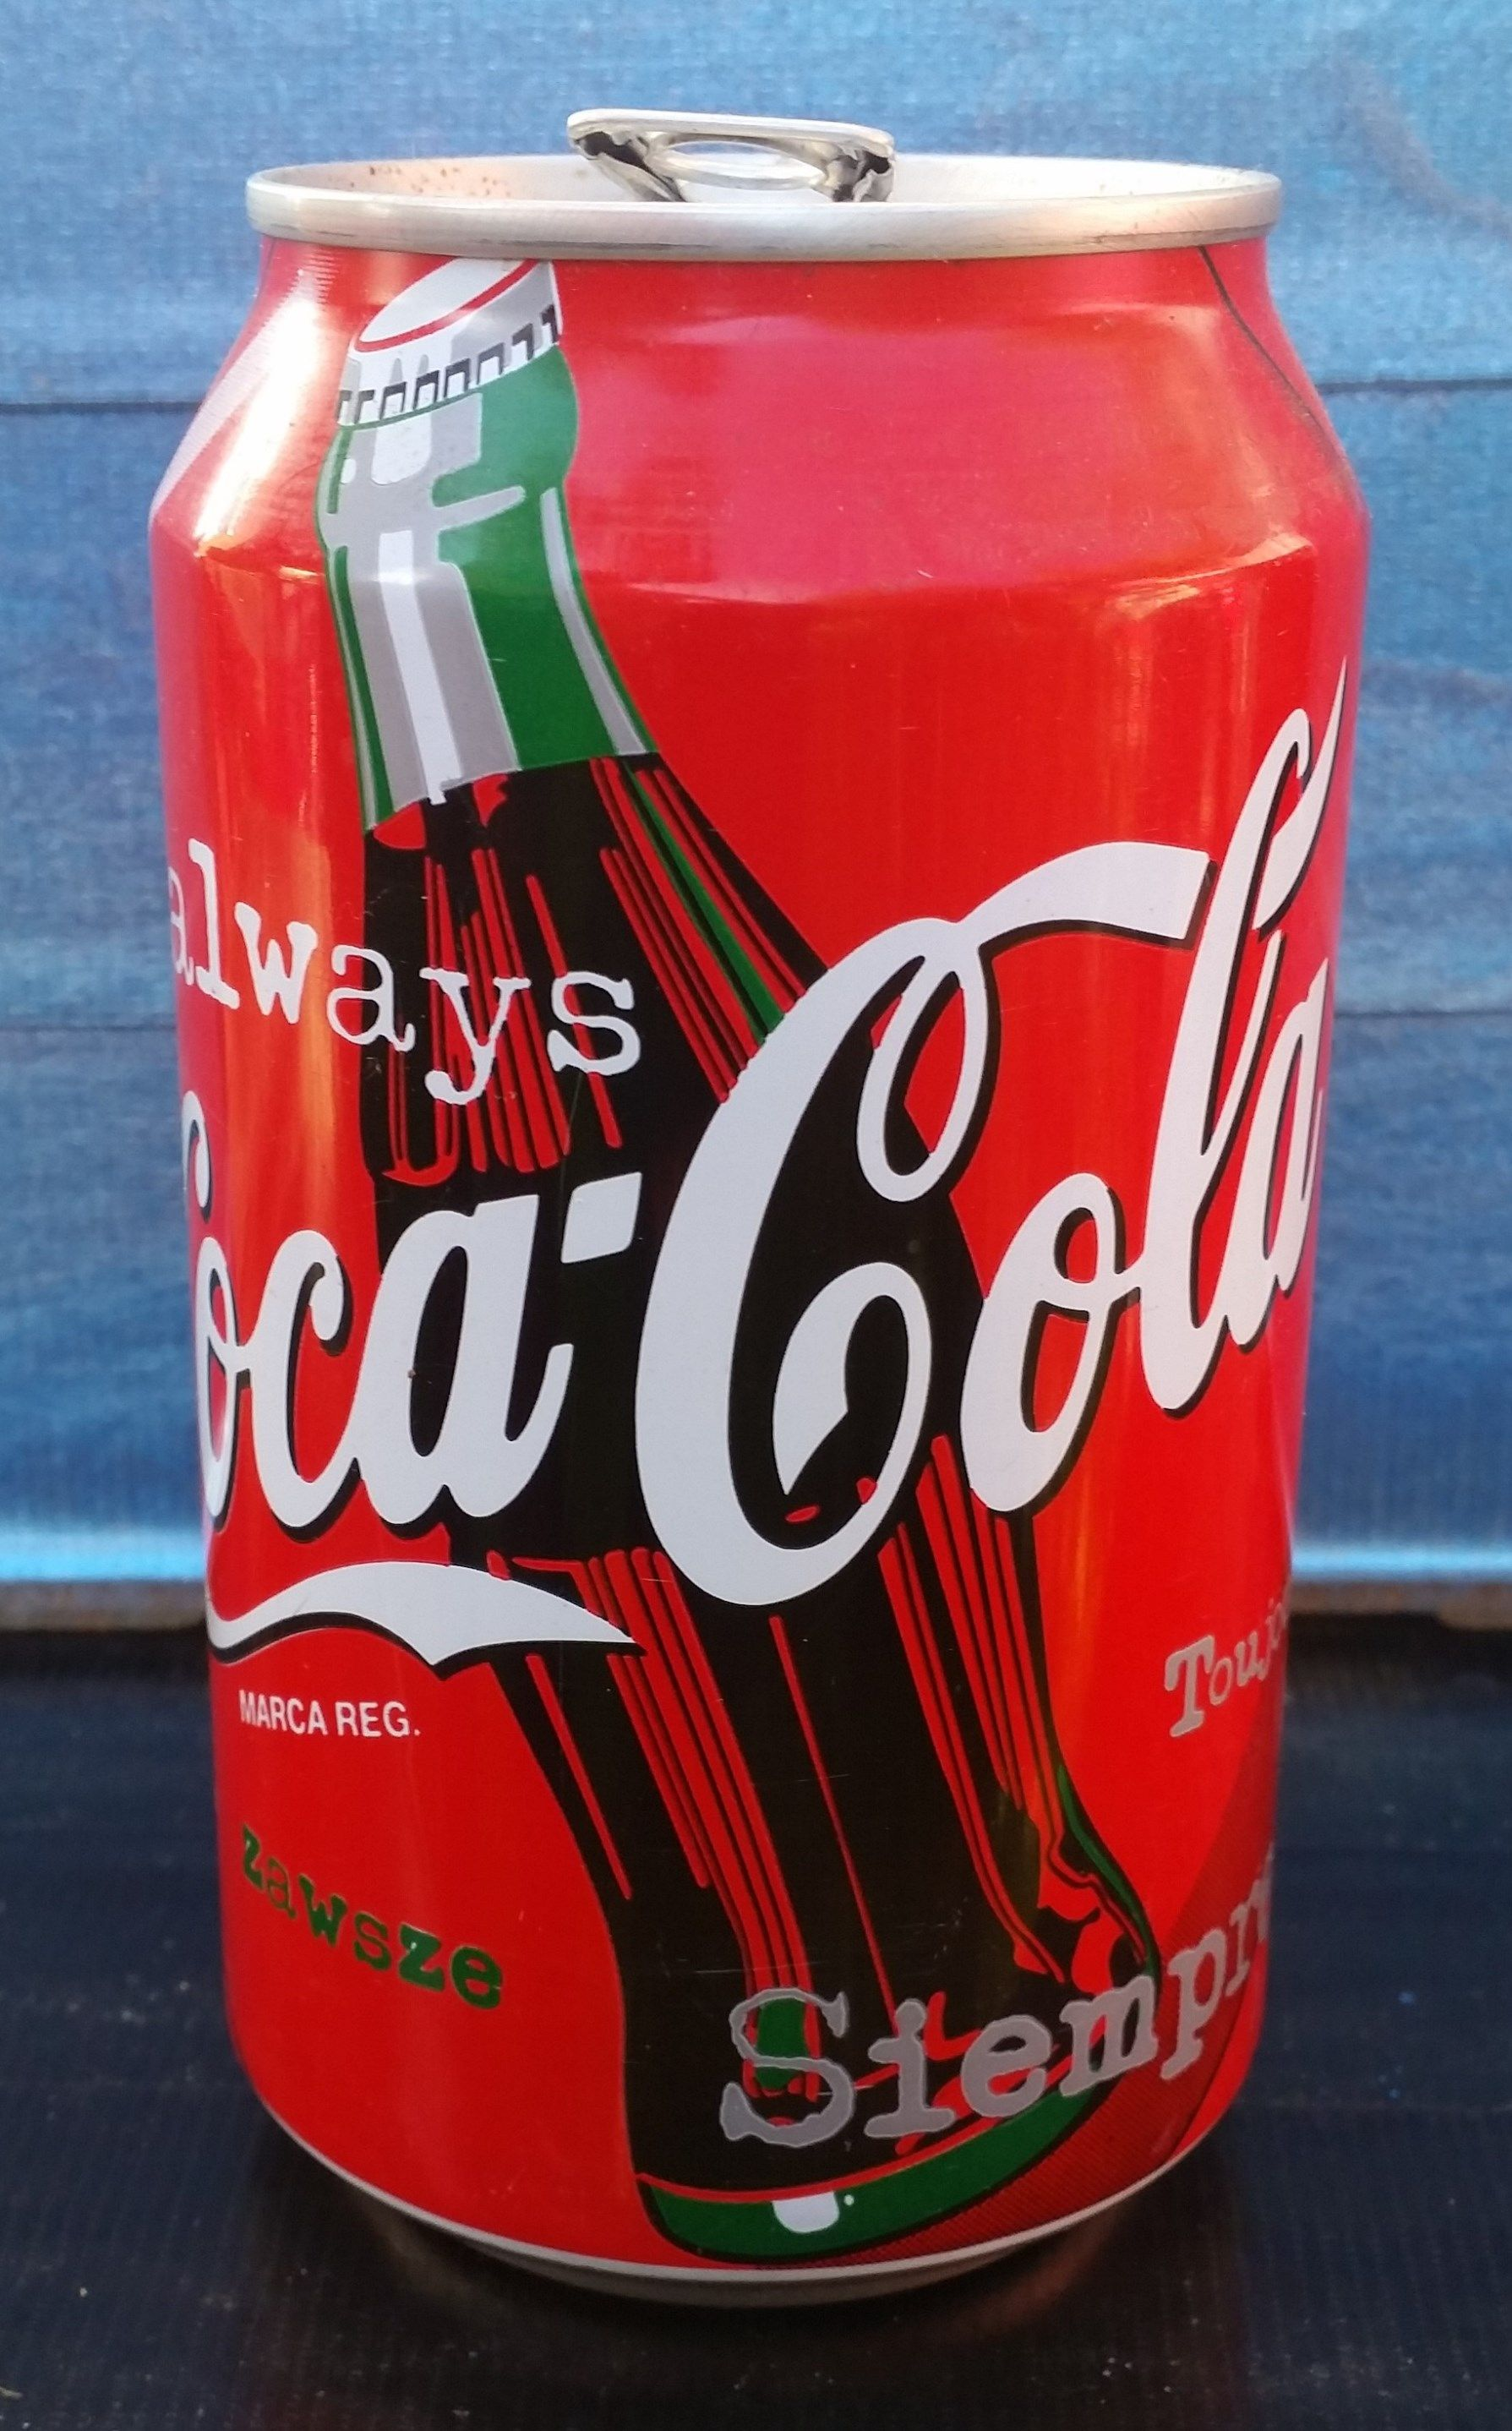coca_cola_can: (152, 96, 1348, 2279)
